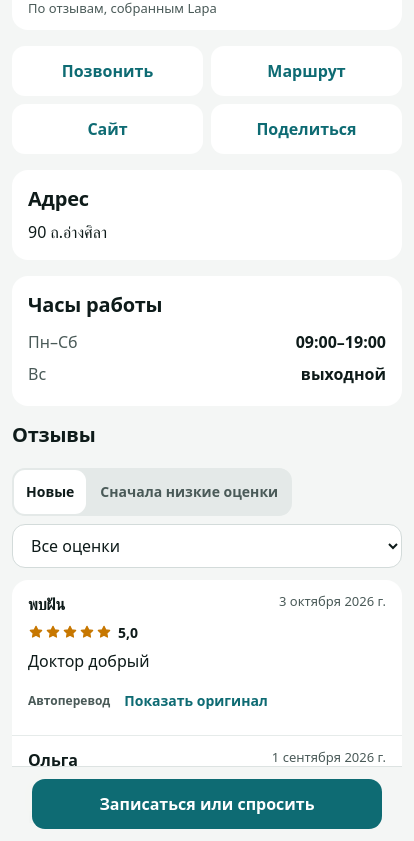
Test case: VenueScreen › does not show reviews of another filter when the next request fails
(page scrolled)
Expected: the text "Доктор добрый" is shown, [28, 650, 150, 672]
Select "1 ★" in the dropdown named "Оценка" at (207, 546), box [12, 524, 402, 568]
(page scrolled)
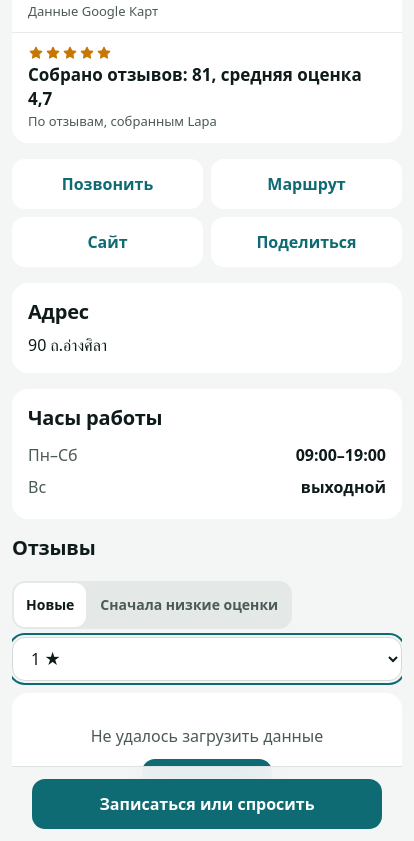
Expected: the text "Всё отлично" is not shown
Now the message "Не удалось загрузить данные Повторить" is shown, box [12, 693, 402, 840]
Now the text "Доктор добрый" is gone
